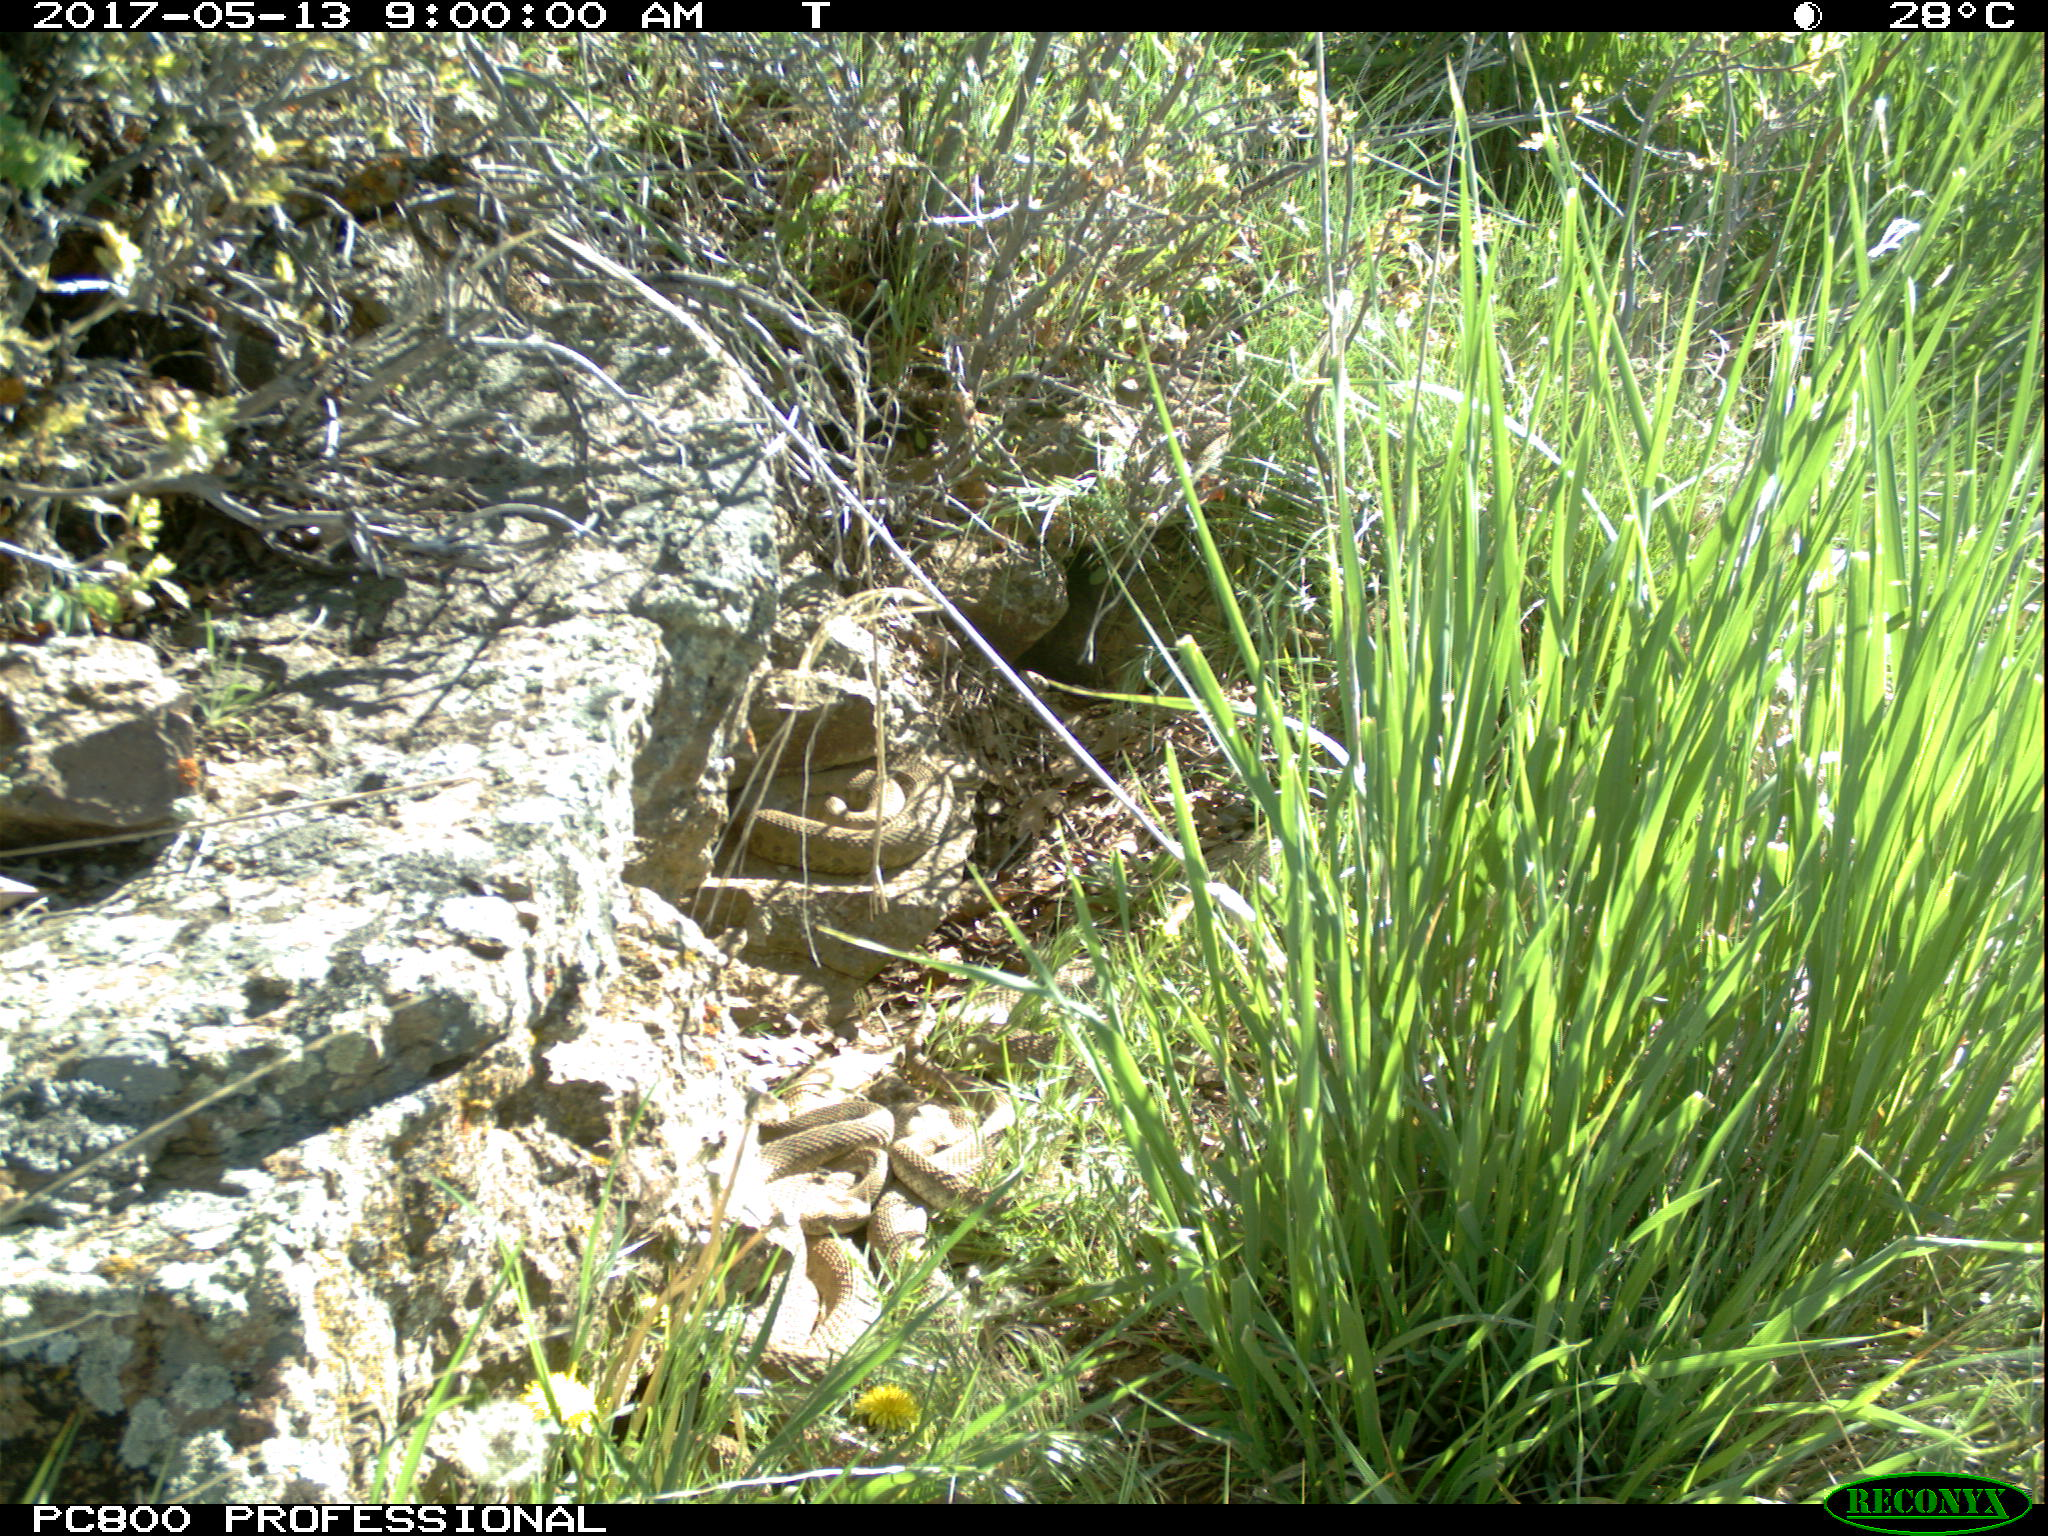snake: (751, 763, 968, 870), (893, 1084, 1050, 1226), (758, 1102, 892, 1226), (792, 1220, 895, 1378)
